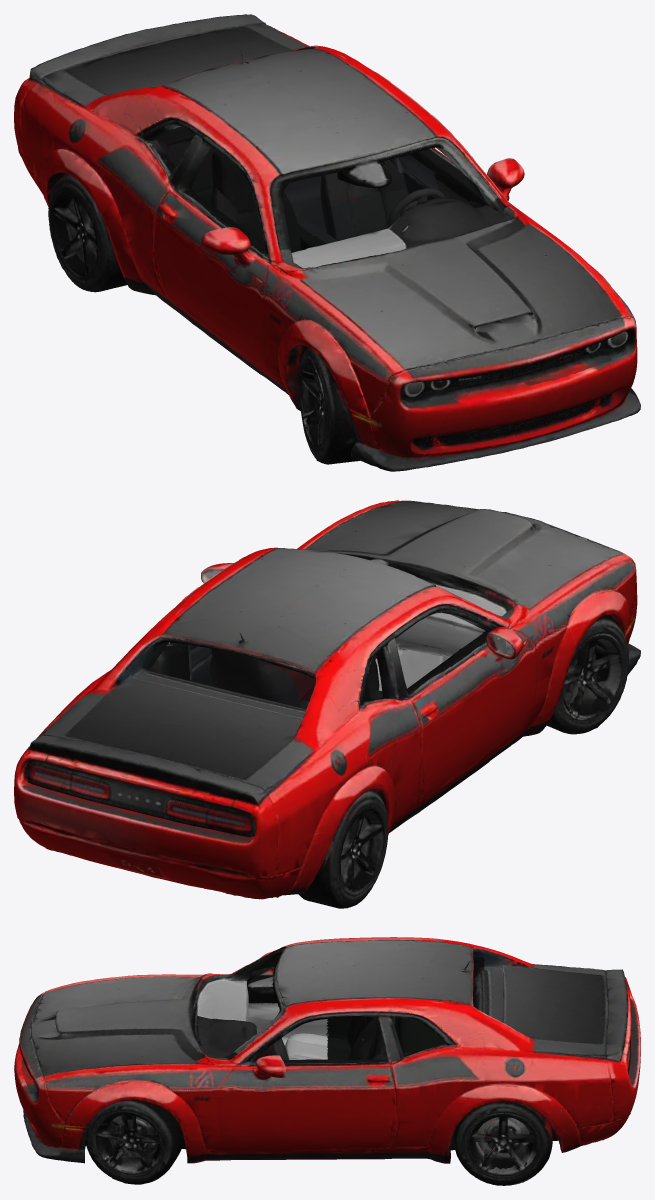
The model's file is car-mobile.glb.
The picture shows the model from 3 angles, top to bottom: view 1: azimuth 30°, elevation 25°; view 2: azimuth 150°, elevation 25°; view 3: azimuth 270°, elevation 25°; orthographic projection. The views are drawn at different scales.
Visible parts, largest first — view 1: tmpyk5bb7fzobj; view 2: tmpyk5bb7fzobj; view 3: tmpyk5bb7fzobj.
Part boxes in pixels (<box>): tmpyk5bb7fzobj: <box>14,14,640,471</box>; tmpyk5bb7fzobj: <box>14,500,640,908</box>; tmpyk5bb7fzobj: <box>14,937,640,1185</box>.
Bounding box in the file's own units: 0.4525 × 0.3053 × 1.
Materials: 1 (1 with a texture image).
